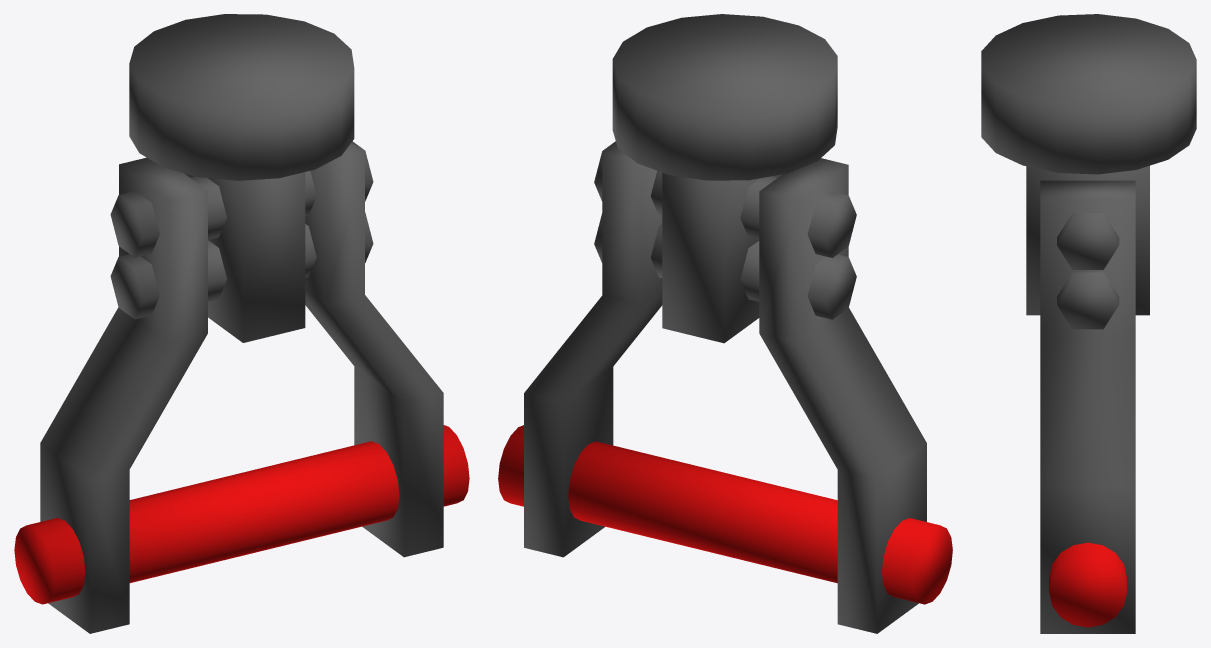
Rendered from cat-handle.fbx.
3 views of the same model, side by side, from view 1: azimuth 30°, elevation 25°; view 2: azimuth 150°, elevation 25°; view 3: azimuth 270°, elevation 25° (orthographic). The views are drawn at different scales.
Visible parts, largest first — view 1: Cylinder; view 2: Cylinder; view 3: Cylinder.
Part boxes in pixels (x1,y1,x2,y2): Cylinder: (14, 14, 469, 633); Cylinder: (498, 14, 952, 633); Cylinder: (981, 14, 1196, 633).
Bounding box in the file's own units: 52.82 × 62.26 × 24.73.
